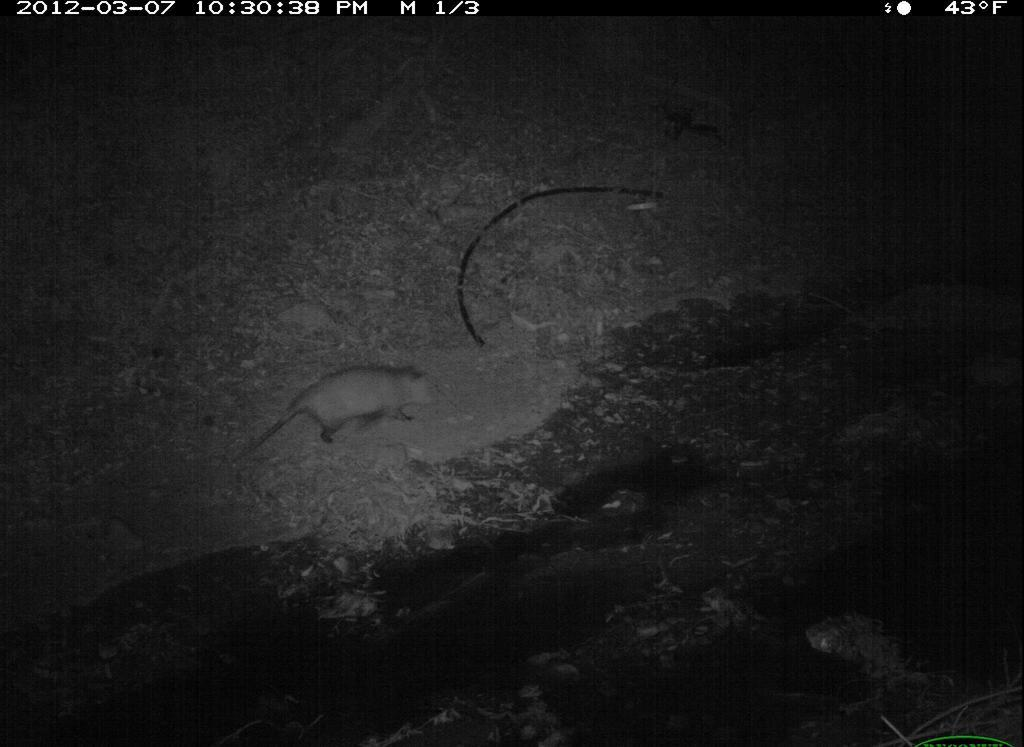opossum: (245, 338, 441, 475)
